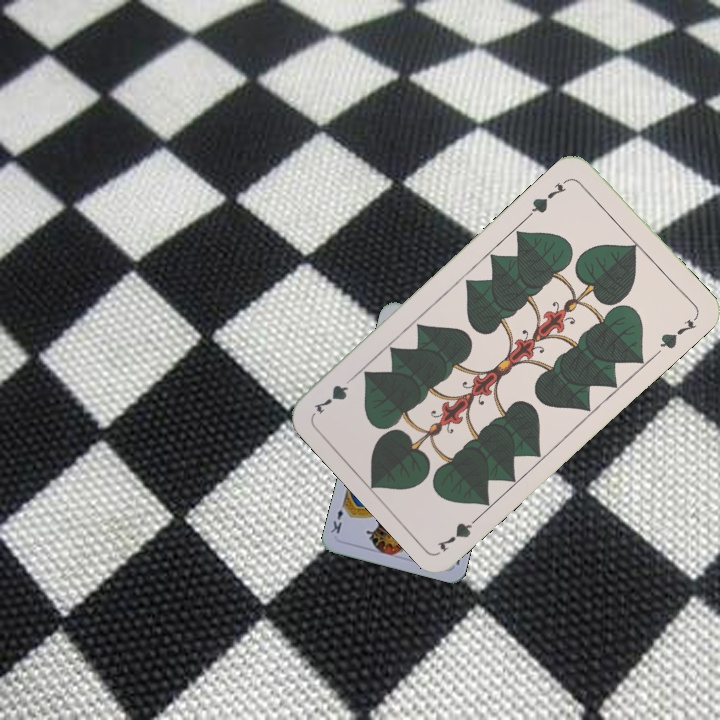G7: (433, 509, 485, 554), (525, 174, 572, 219)
